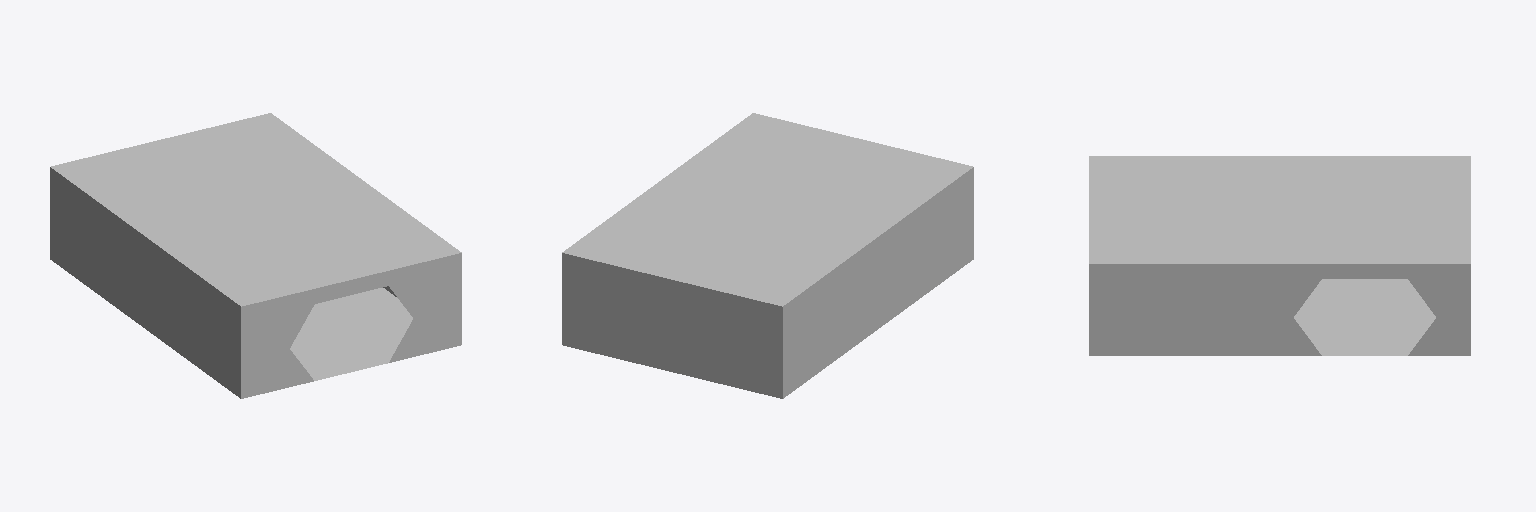
File: room.obj
3 views of the same model, side by side, from view 1: azimuth 30°, elevation 25°; view 2: azimuth 150°, elevation 25°; view 3: azimuth 270°, elevation 25° (orthographic).
Parts seen in each view (by area): view 1: Cube.002_Cube.003; view 2: Cube.002_Cube.003; view 3: Cube.002_Cube.003.
Part boxes in pixels (left/top/right/bottom): Cube.002_Cube.003: left=50, top=113, right=461, bottom=398; Cube.002_Cube.003: left=562, top=113, right=973, bottom=398; Cube.002_Cube.003: left=1089, top=156, right=1470, bottom=355.
Size of the model in its own units: 6 by 2.4 by 9.